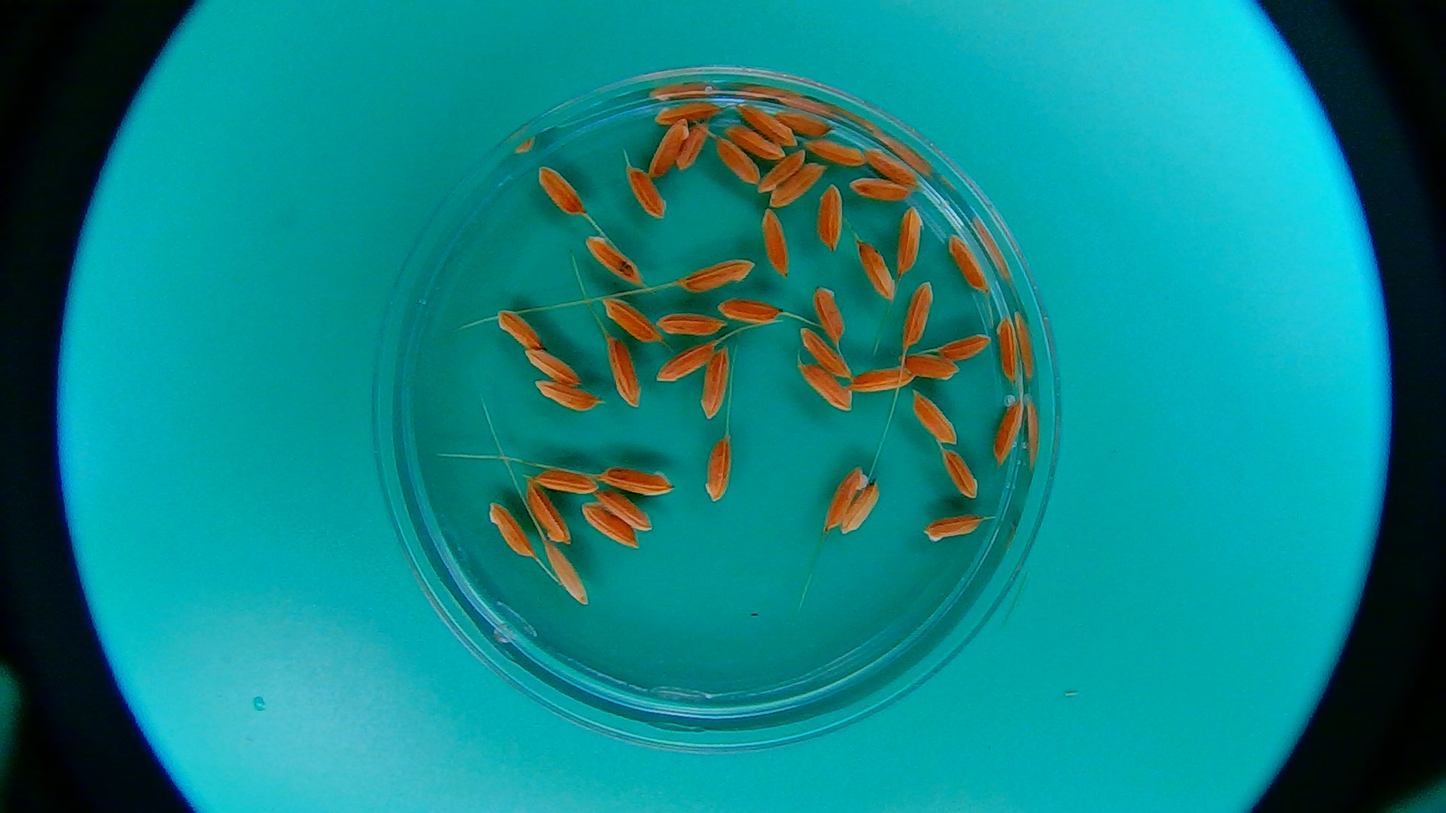no: (541, 540, 591, 612), (597, 293, 667, 343), (819, 464, 869, 534), (579, 499, 642, 554), (732, 101, 800, 151), (859, 139, 921, 191), (526, 480, 574, 546), (583, 235, 643, 287), (910, 385, 961, 446), (486, 500, 536, 562), (798, 322, 853, 378), (766, 161, 828, 209), (723, 121, 788, 166), (798, 361, 853, 414), (606, 334, 645, 408), (945, 233, 990, 297), (679, 257, 757, 293), (535, 164, 588, 216), (529, 377, 604, 413), (758, 206, 794, 281), (648, 118, 690, 182), (654, 341, 718, 383), (855, 238, 897, 302), (801, 131, 868, 171), (522, 346, 583, 388), (593, 489, 654, 531), (600, 464, 676, 497), (699, 345, 732, 421), (901, 278, 935, 350), (714, 133, 761, 185), (495, 308, 549, 353), (811, 282, 849, 345), (837, 480, 880, 535), (703, 434, 736, 505), (755, 148, 807, 193), (626, 166, 669, 220), (816, 181, 847, 252), (993, 397, 1025, 465), (529, 465, 599, 496), (941, 449, 981, 502), (715, 295, 783, 326), (895, 205, 924, 276), (993, 313, 1022, 384), (898, 351, 962, 383), (654, 311, 728, 338), (675, 118, 712, 170), (846, 367, 915, 394), (938, 333, 994, 366), (846, 175, 910, 203), (923, 514, 982, 544), (651, 102, 721, 125), (773, 110, 831, 137)
